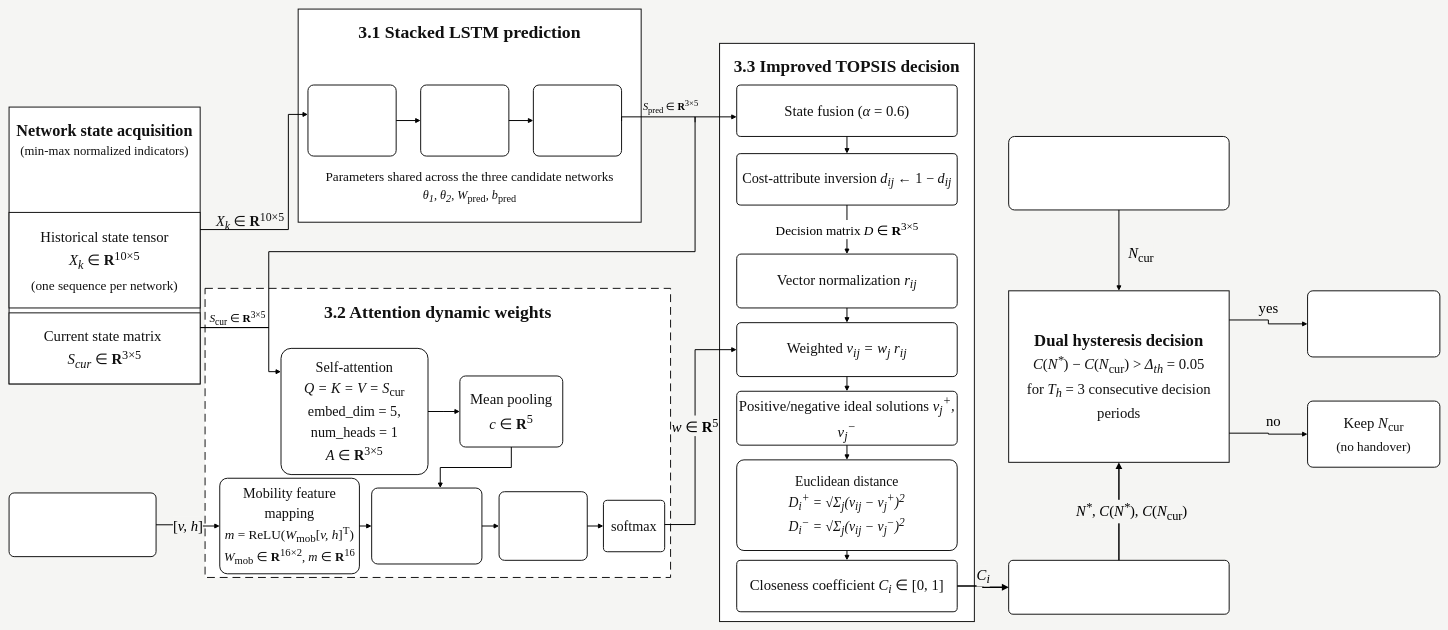
The diagram is 1448 pixels wide and 630 high, and some of its shapes have lost their labels. Here are the shapes that lost their labels. From the top down, the centre of each, then its label:
At (351,120): "LSTM 1 (5 → 128)".
At (464,120): "LSTM 2 (128 → 64)".
At (577,120): "fc pred (64 → 5)".
At (1118,173): "Current serving network N cur".
At (1373,323): "Switch to N * (target network identifier)".
At (82,524): "Mobility state [ v, h ]".
At (426,525): "Concatenation ( c and m ), 21-D".
At (543,526): "W weight R 21 → R 5 Linear layer".
At (1118,587): "Candidate ranking N * = arg max i C i".
